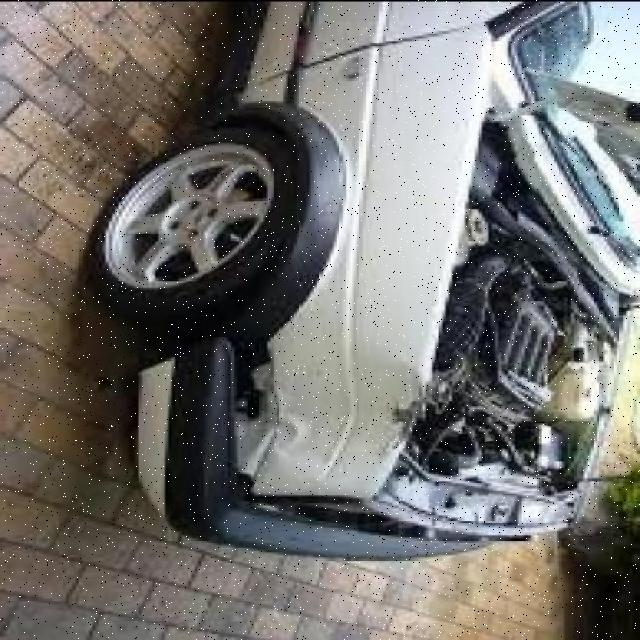damage: (226, 343, 422, 502)
